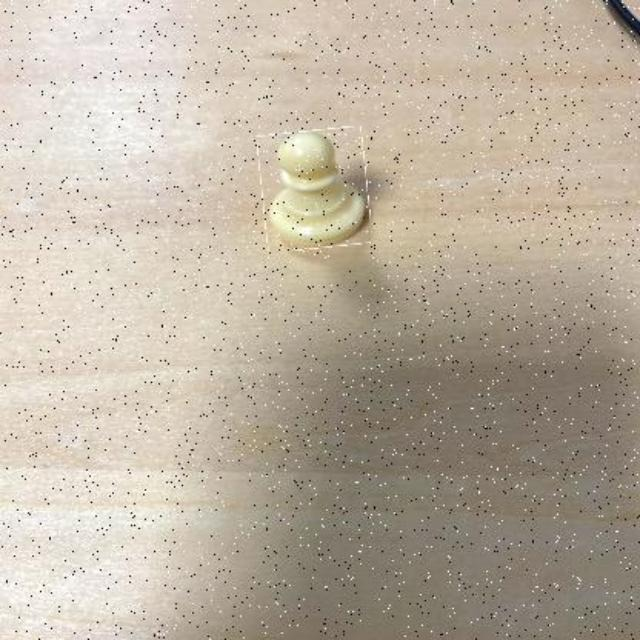white-pawn: (260, 128, 370, 249)
